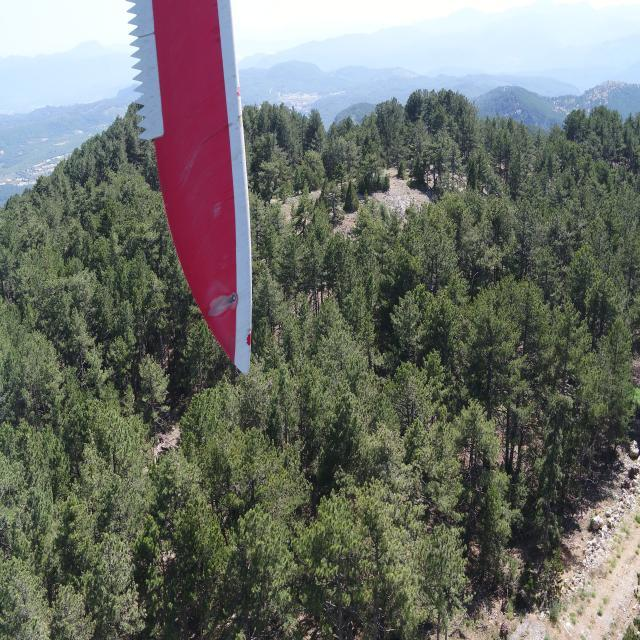Burn Mark: (210, 290, 241, 314)
